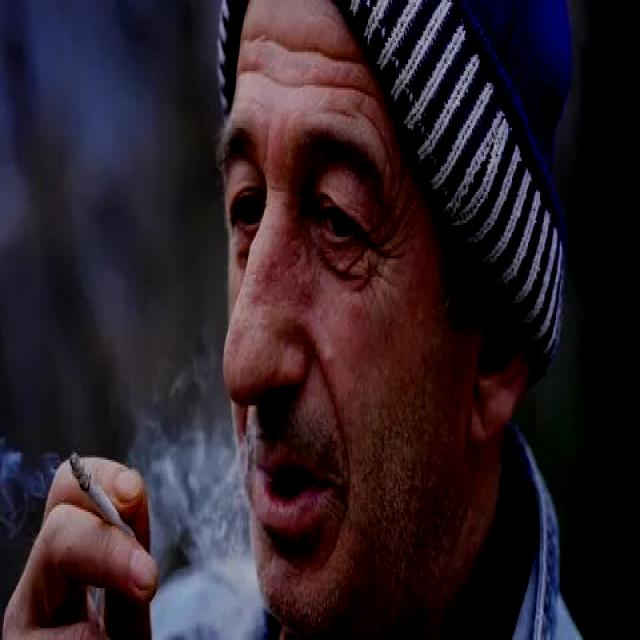cigarette: (64, 450, 138, 552)
